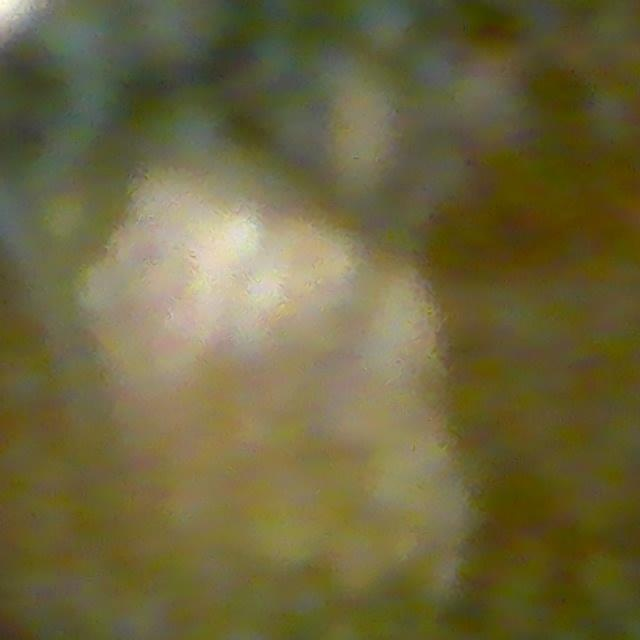SeaGrape: (338, 0, 421, 58)
